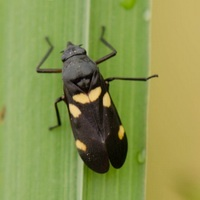insect: (36, 26, 157, 172)
